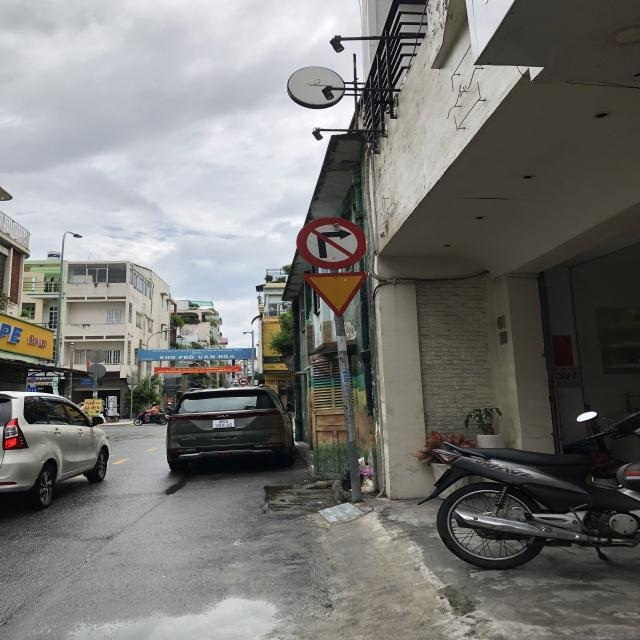Bien bao cam re phai: (294, 215, 371, 271)
Bien bao giao nhau voi duong uu tien: (294, 268, 379, 316)
